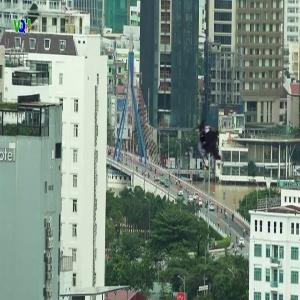drone: (178, 111, 242, 175)
